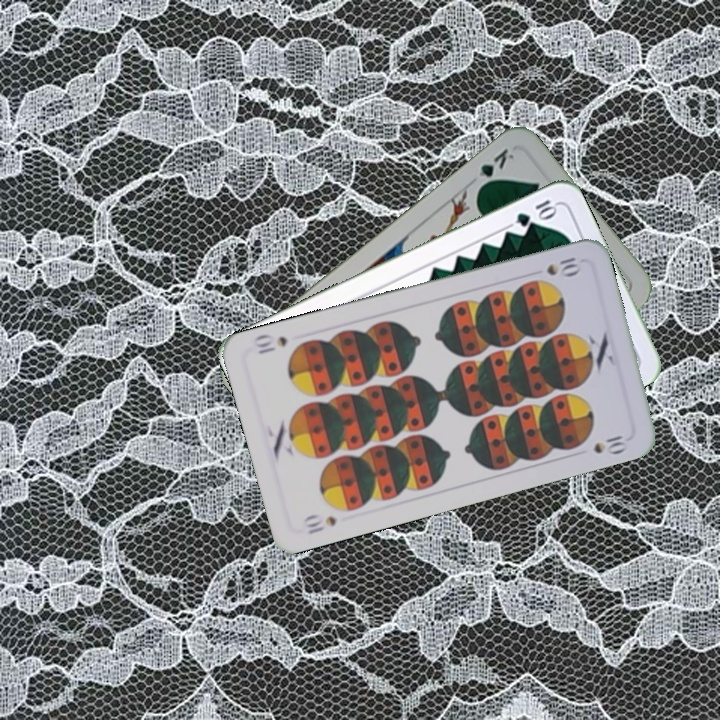G10: (512, 195, 560, 230)
GK: (473, 144, 517, 193)
S10: (542, 253, 583, 279), (299, 511, 340, 537)
